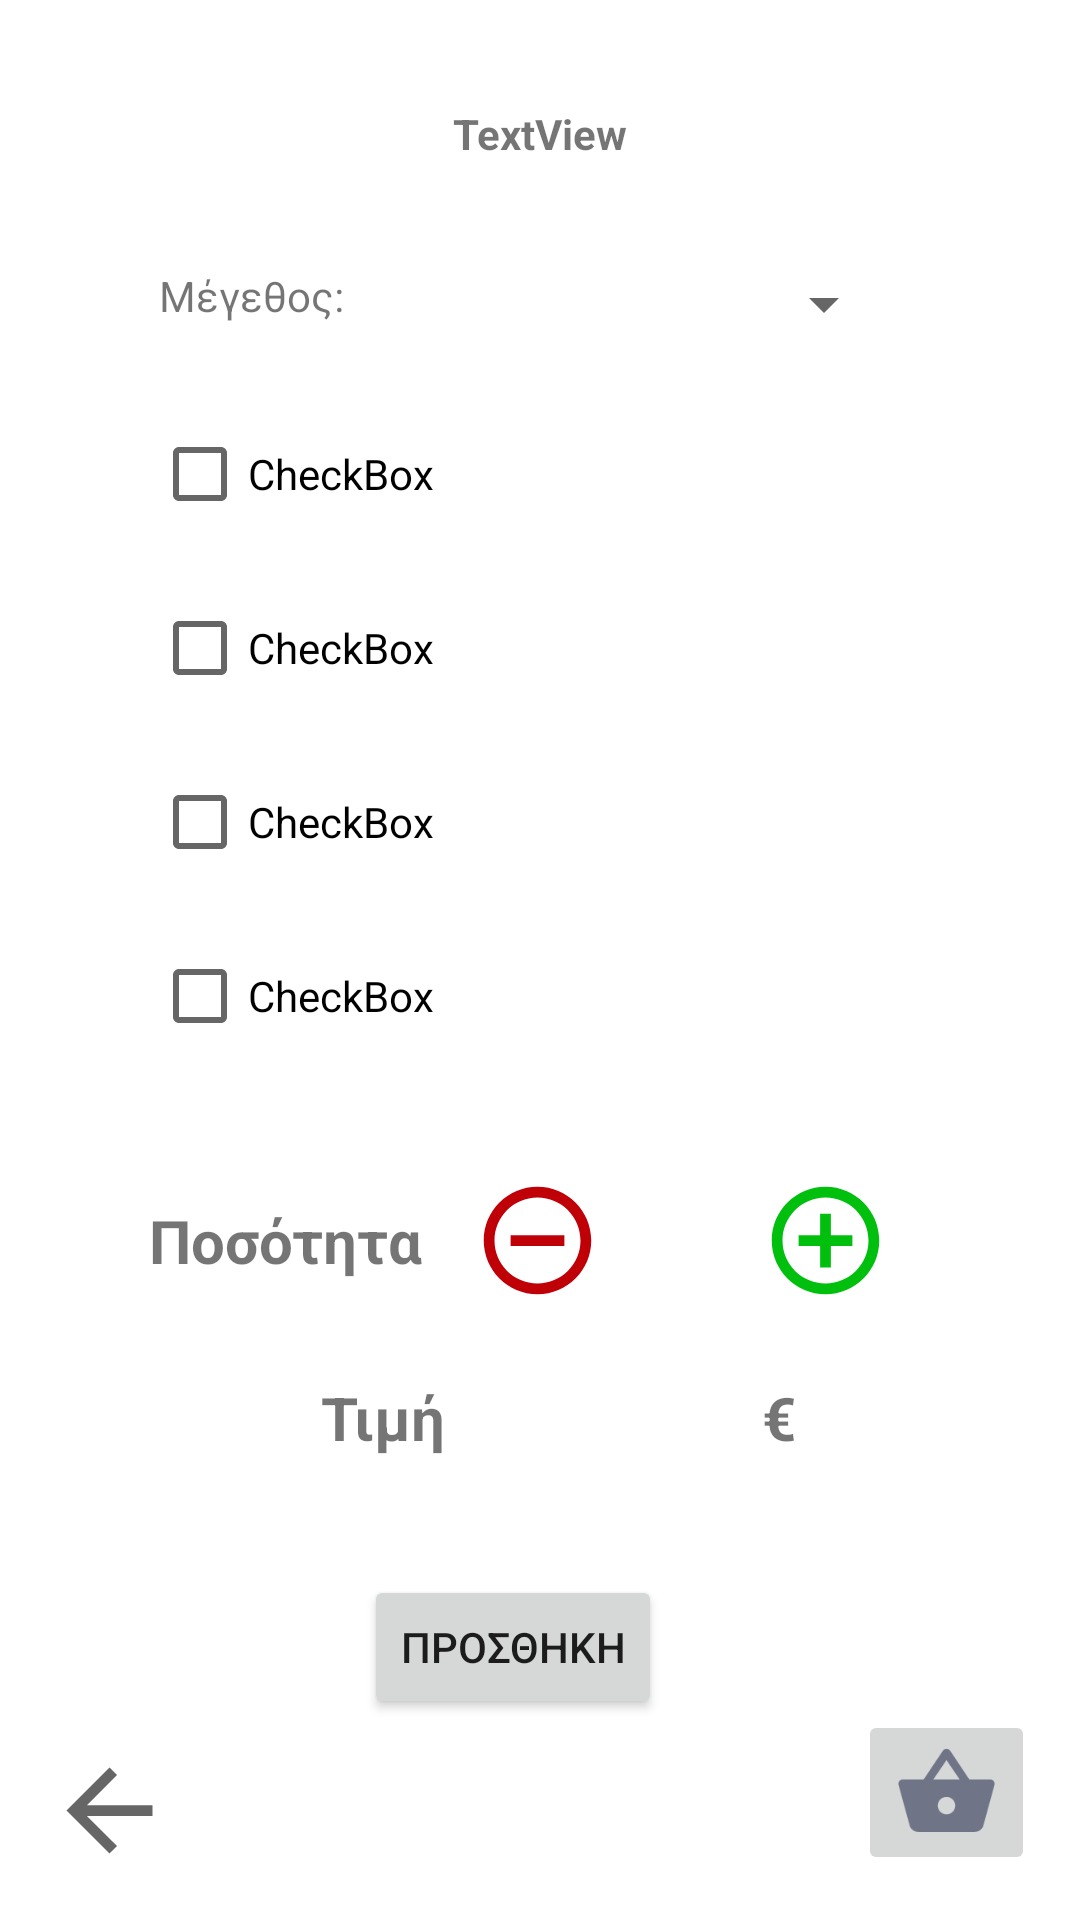

Named icons in this screenshot (1080w x 1920h) and their centers, point (x, y):
add circle: point (825, 1240)
remove circle: point (537, 1240)
shopping basket: point (946, 1792)
